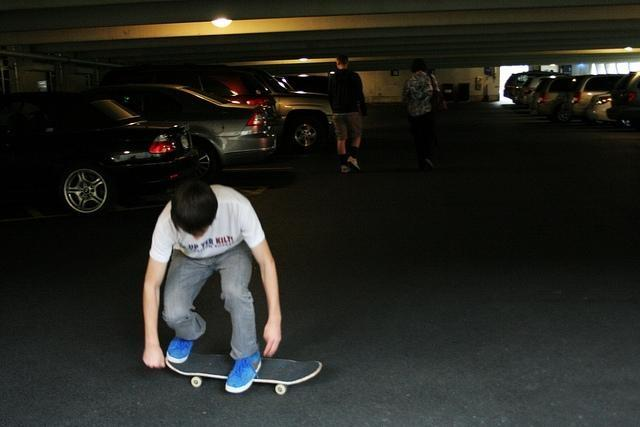car: (2, 73, 224, 209), (90, 84, 278, 186), (104, 62, 284, 127), (230, 68, 336, 152), (586, 72, 640, 130), (529, 74, 586, 124), (563, 75, 626, 117), (516, 73, 574, 106), (504, 71, 556, 104), (284, 72, 335, 94)
